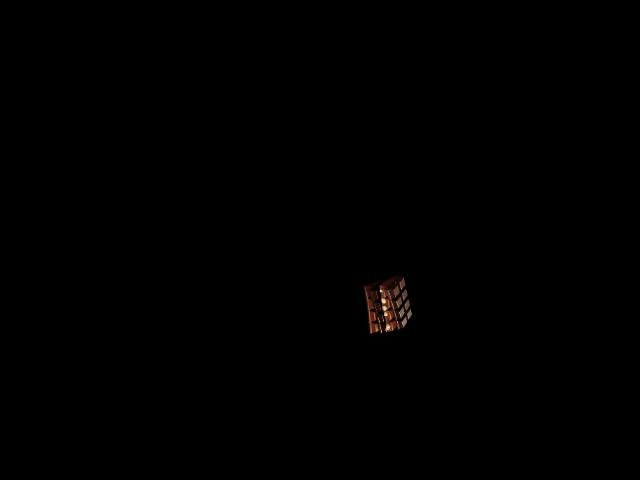chocolate: (361, 279, 412, 333)
